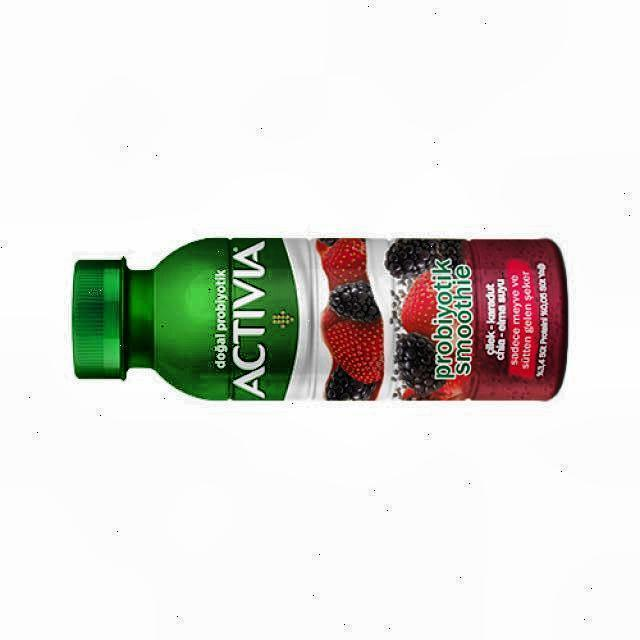plastic: (72, 238, 568, 400)
